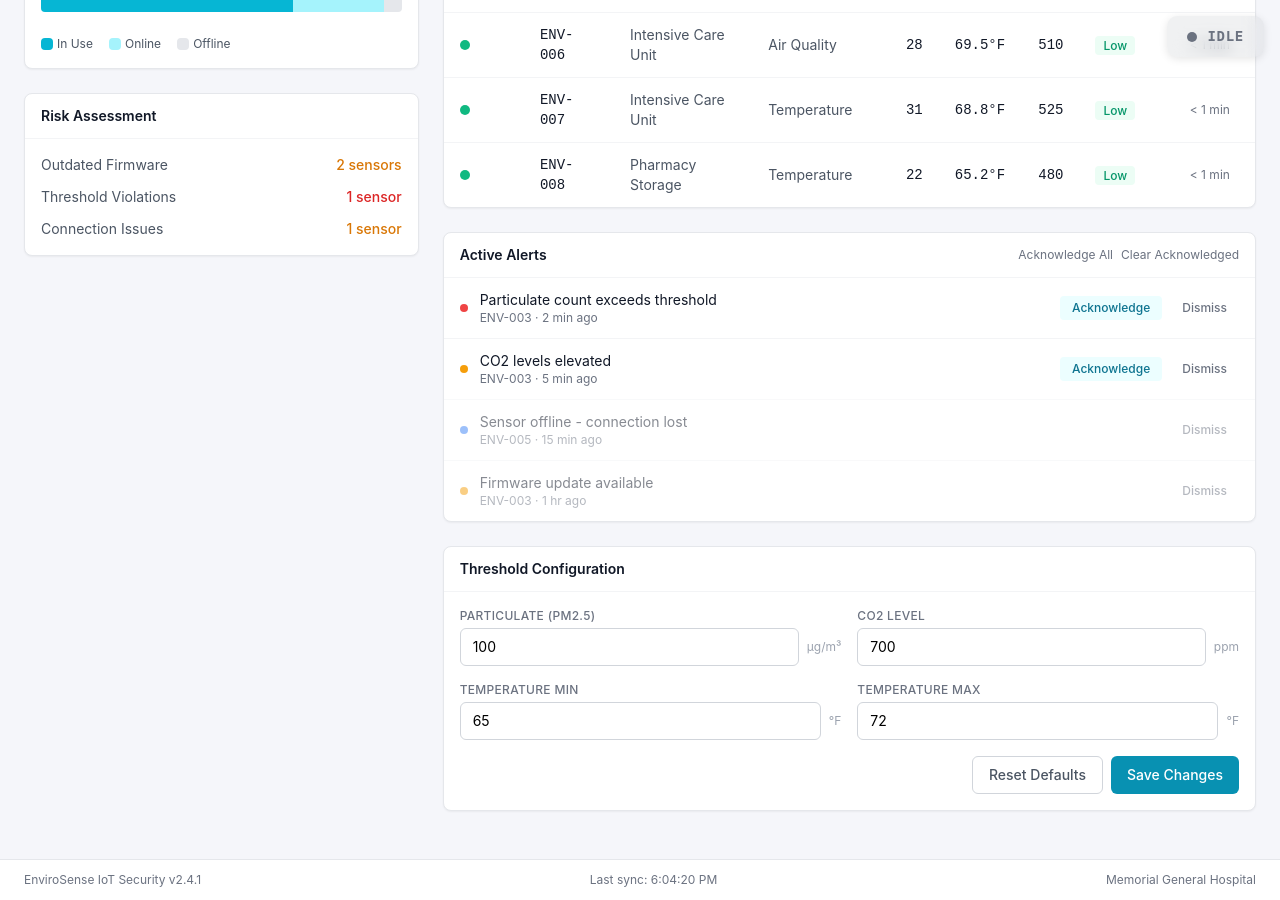
Test: Environmental Monitoring Dashboard › Alerts › dismissing alert removes it from list
The width and height of the screenshot is (1280, 900).
(page scrolled)
What coordinates should you click on to do the following:
click the button with test id "dismiss-alert-4"
I would click on:
 (1205, 491)
Its box is [1170, 479, 1239, 503].
(page scrolled)
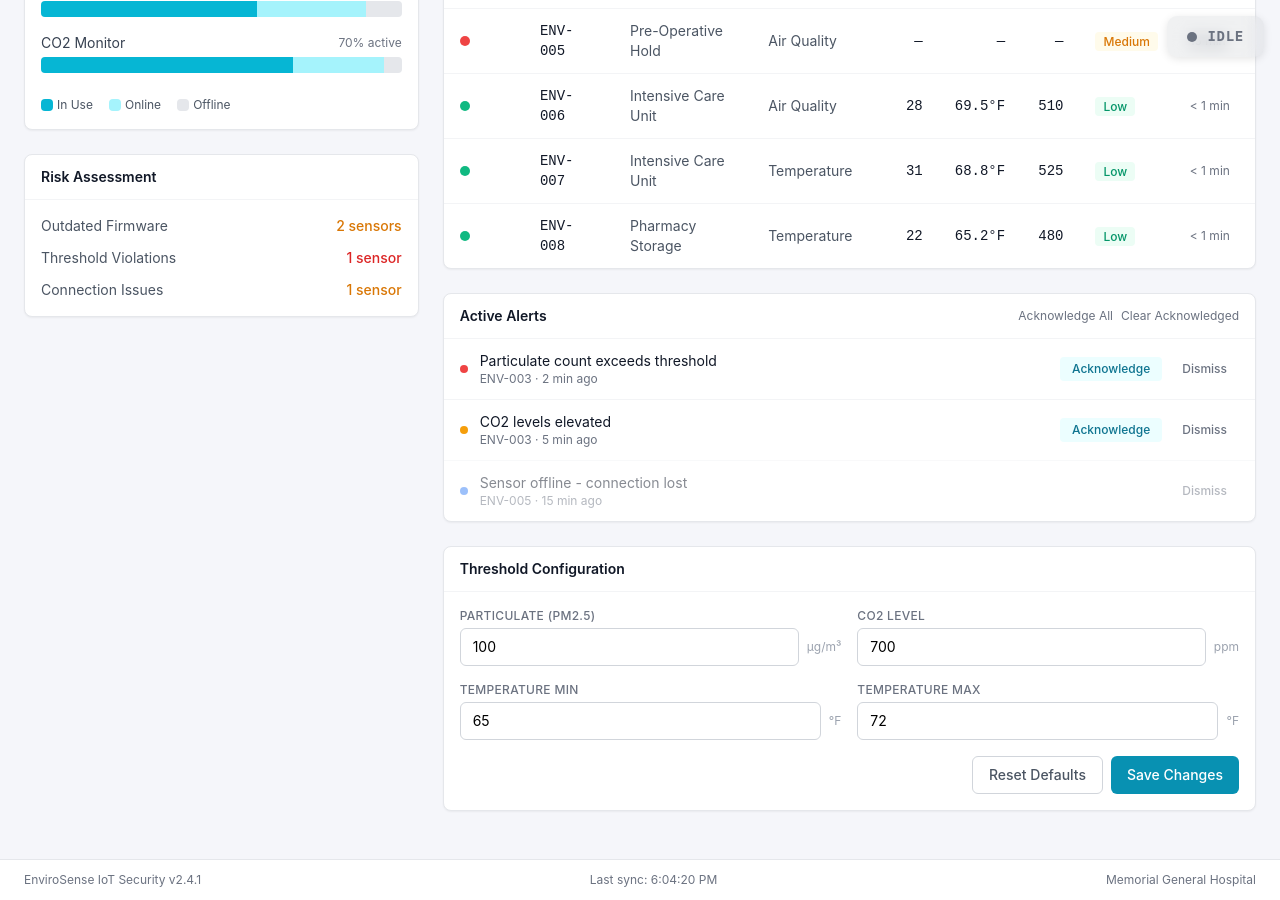
expect the element with test id "alert-4" is gone: met
